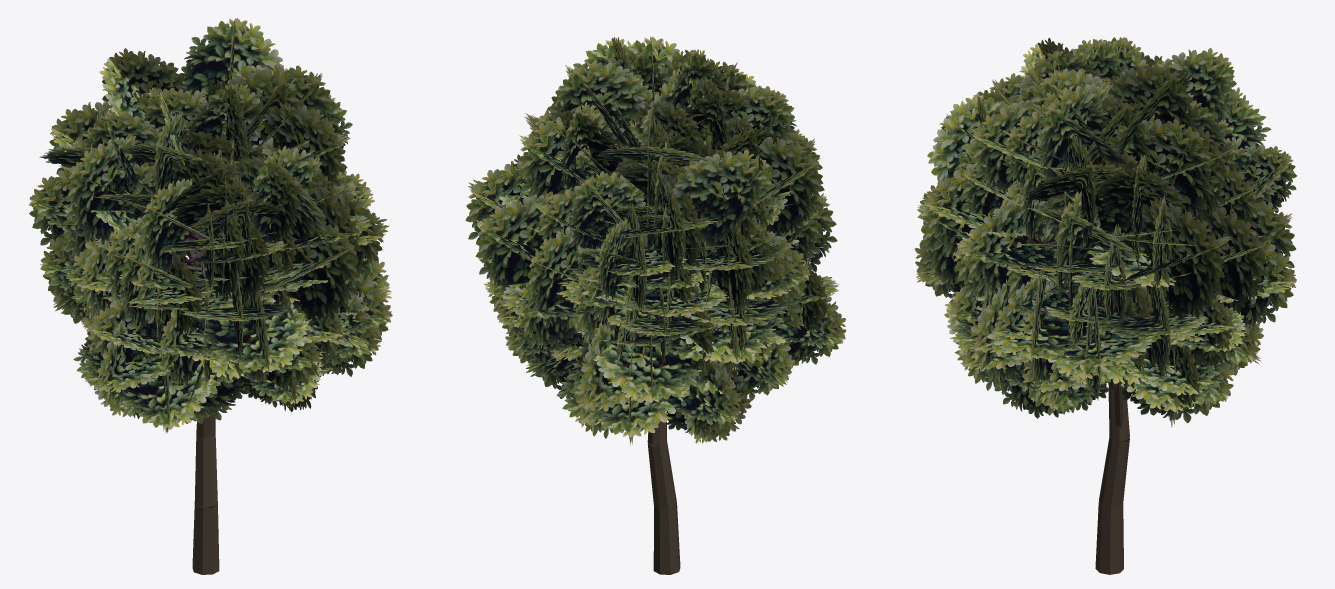
The model's file is category_mesh_tree_1.glb.
The picture shows the model from 3 angles, left to right: view 1: azimuth 30°, elevation 25°; view 2: azimuth 150°, elevation 25°; view 3: azimuth 270°, elevation 25°; orthographic projection. The views are drawn at different scales.
Visible parts, largest first — view 1: category_mesh_tree_1; view 2: category_mesh_tree_1; view 3: category_mesh_tree_1.
Boxes of the visible parts, left/top/right/bottom form: category_mesh_tree_1: left=29, top=18, right=392, bottom=574; category_mesh_tree_1: left=465, top=36, right=846, bottom=574; category_mesh_tree_1: left=915, top=37, right=1296, bottom=574.
Size of the model in its own units: 13.37 by 19.22 by 13.52.
1 material, 1 textured.
